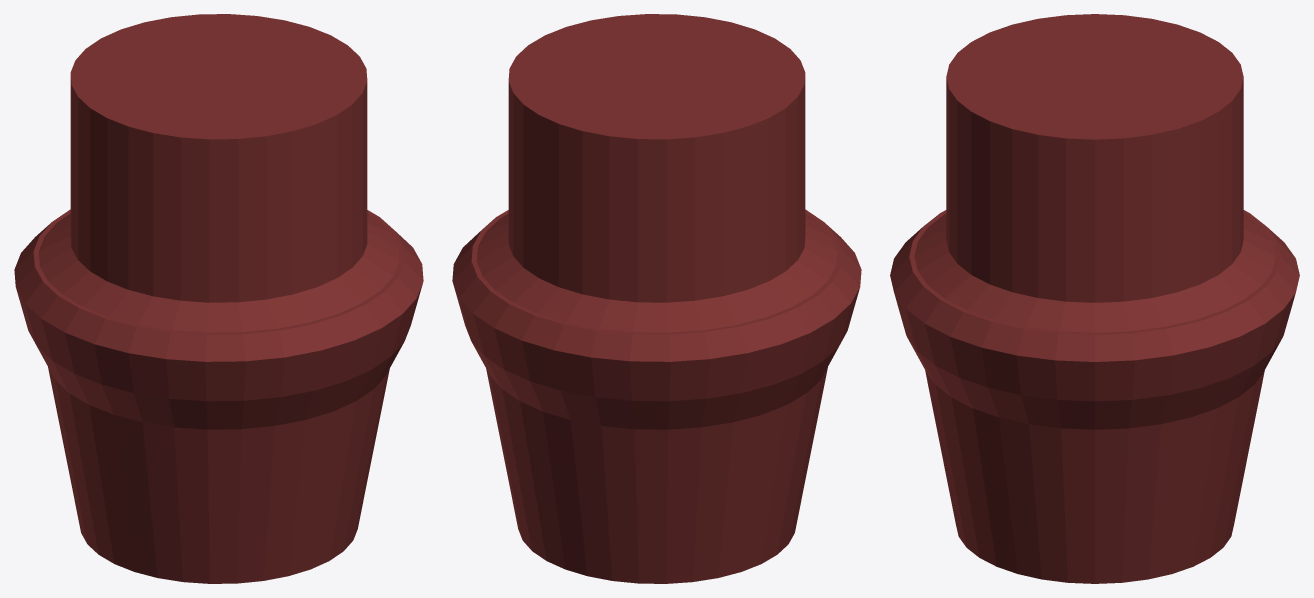
The model's file is Topper.dae.
3 renders of one model, left to right at view 1: azimuth 30°, elevation 25°; view 2: azimuth 150°, elevation 25°; view 3: azimuth 270°, elevation 25°, orthographic.
Visible parts, largest first — view 1: Cylinder; view 2: Cylinder; view 3: Cylinder.
Part boxes in pixels (x1,y1,x2,y2): Cylinder: (14, 14, 423, 583); Cylinder: (452, 14, 861, 583); Cylinder: (890, 14, 1299, 583).
Bounding box in the file's own units: 0.0304 × 0.0304 × 0.0366.
